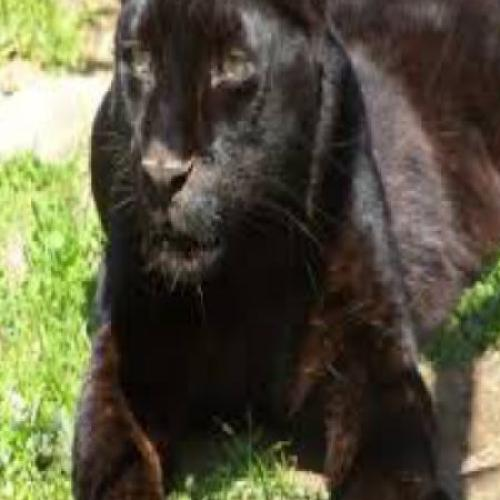panther-endangered: (70, 0, 500, 500)
